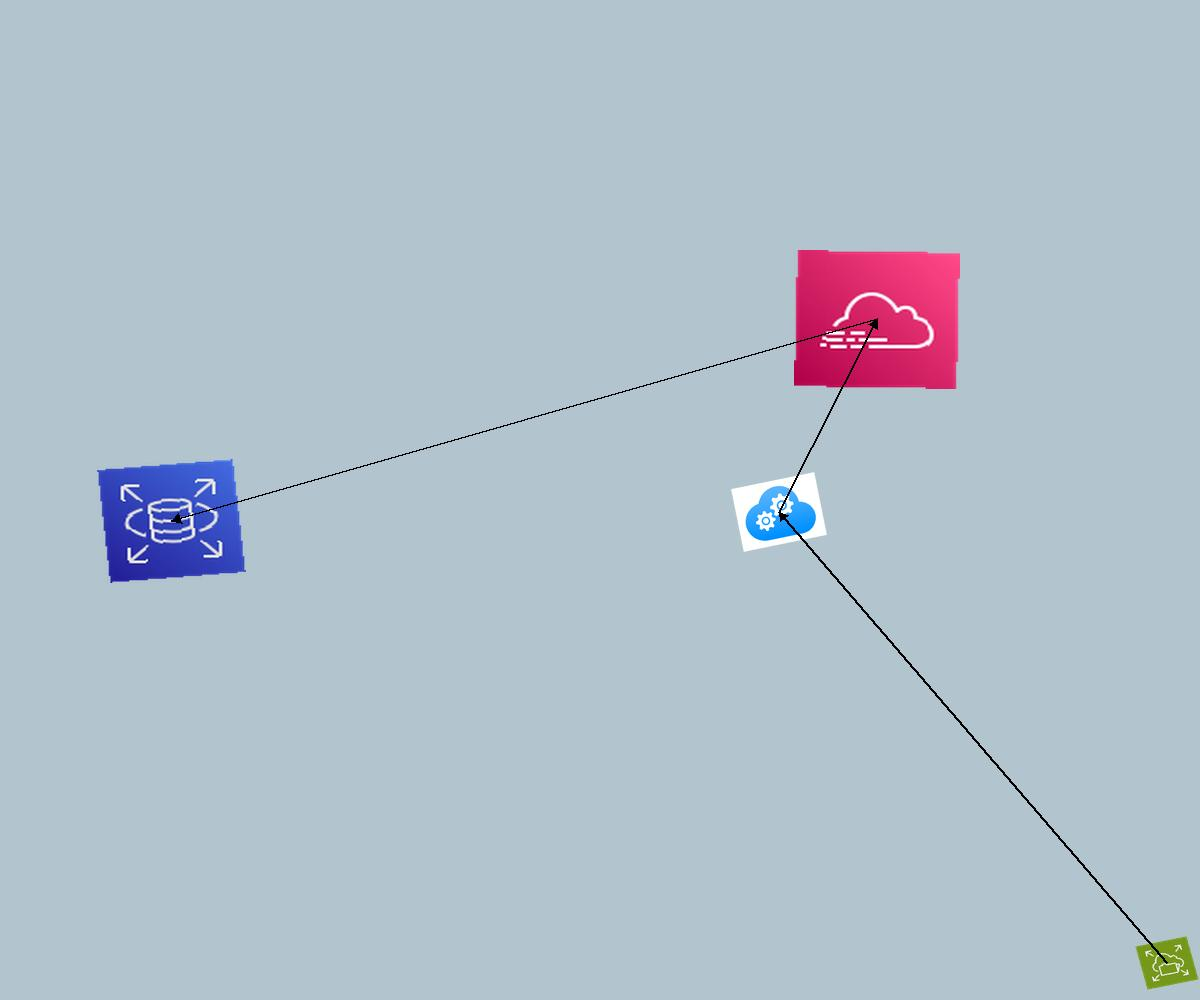AWS-CloudTrail: (794, 250, 960, 389)
AWS-EFS: (1135, 936, 1199, 990)
AWS-RDS: (97, 459, 246, 583)
Azure_cloud_services: (731, 472, 827, 552)
